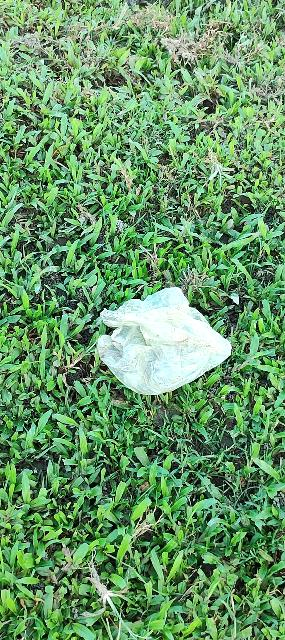polythene: (74, 261, 242, 420)
